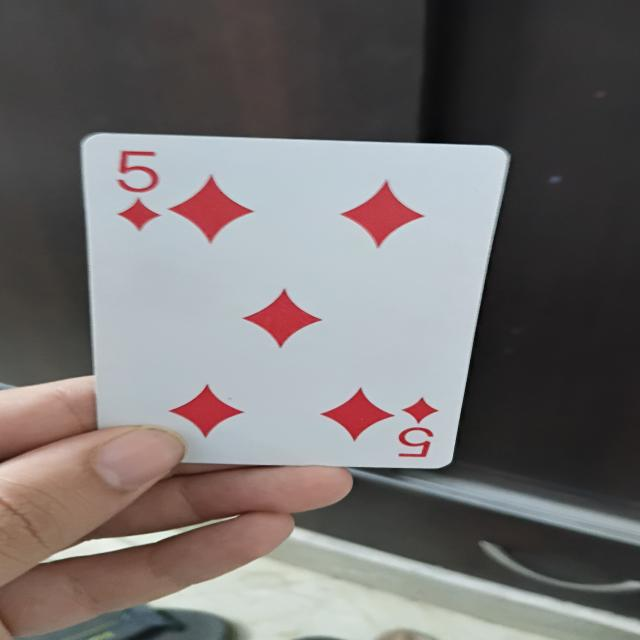5D: (66, 124, 532, 477)
